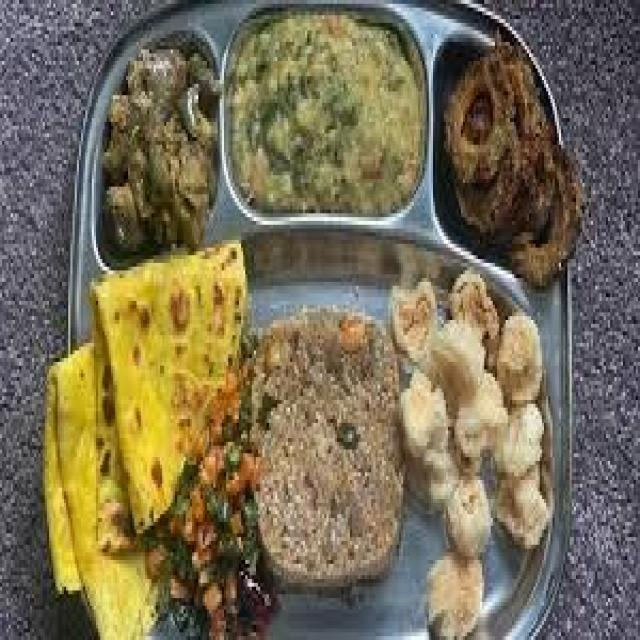dal: (87, 239, 244, 489), (237, 11, 416, 213)
rice: (245, 306, 401, 588)
roti: (246, 300, 390, 589)
veg-fry: (226, 0, 422, 224), (430, 26, 569, 267), (93, 28, 219, 270)
